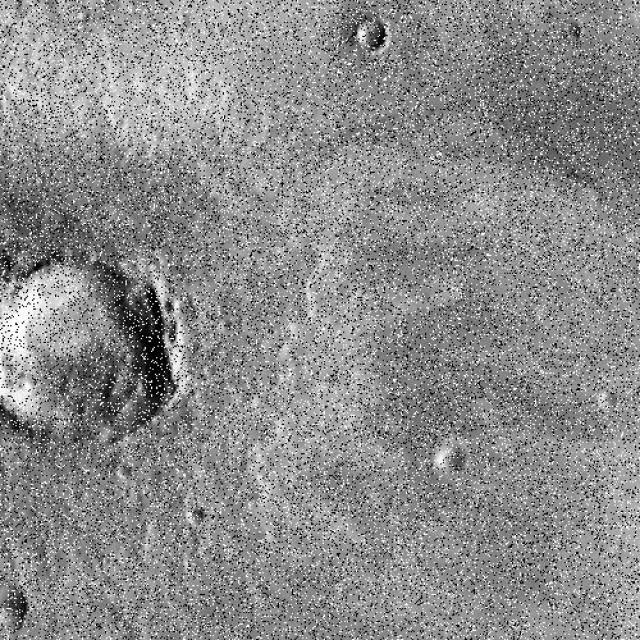crater: (362, 375, 640, 640), (0, 240, 189, 460)
